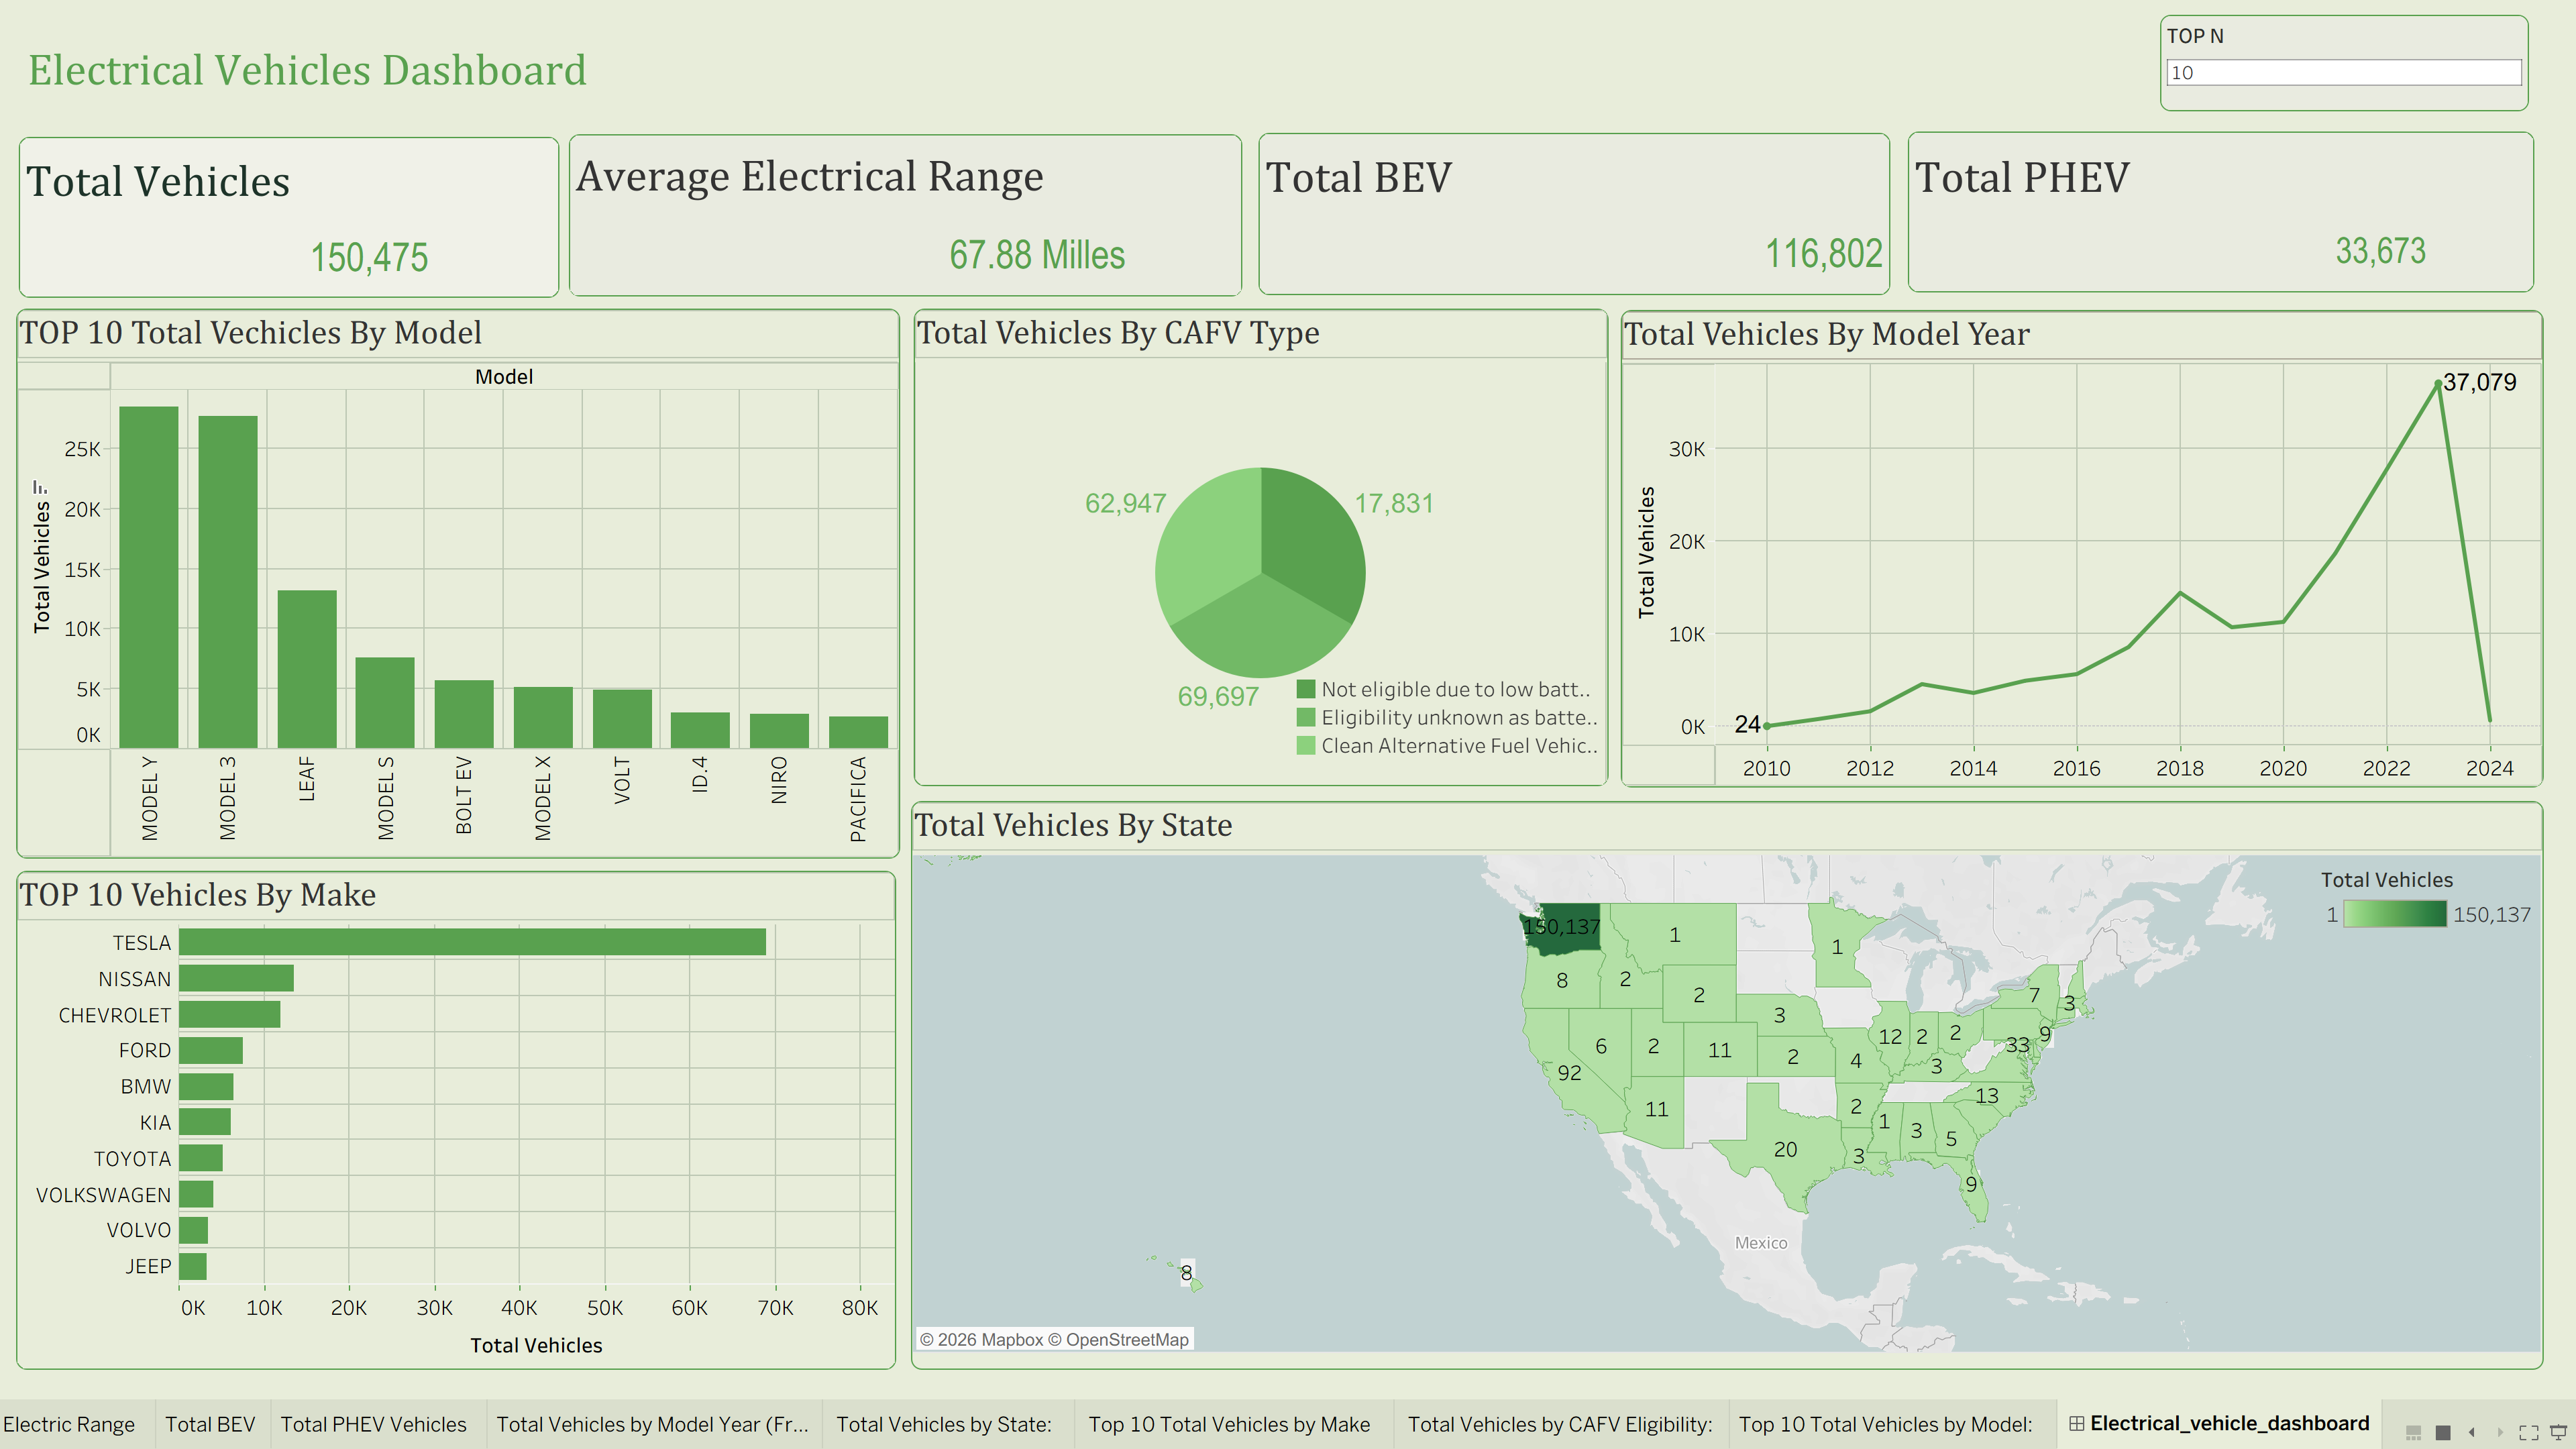

Layout of this report page (visuals, bound fields, positions):
{"tool":"tableau","page":{"name":"Electrical_vehicle_dashboard","canvas":[1000,1000],"units":"permille","ordinal":0},"visuals":[{"type":"parameter","param":"[Parameters].[Parameter 1]","box":[838.6,10.6,143.4,69.2]},{"type":"text","box":[8.9,14.1,282.4,69.2]},{"type":"worksheet","title":"Total PHEV Vehicles","mark":"Automatic","box":[740.5,93.9,243.3,115]},{"type":"worksheet","title":"Total BEV","mark":"Automatic","box":[488.5,95.1,245.2,116.2]},{"type":"worksheet","title":"Average Electric Range","mark":"Automatic","box":[221,96.2,261.3,116.2]},{"type":"worksheet","title":"Total Vehicles","mark":"Automatic","box":[7.5,97.4,209.8,115]},{"type":"worksheet","title":"Top 10 Total Vehicles by Model:","mark":"Automatic","rows":["Calculation_0101437153210368"],"cols":["model"],"box":[6.2,220.7,343,393.2]},{"type":"worksheet","title":" Total Vehicles by CAFV Eligibility:","mark":"Pie","box":[354.8,220.7,270,341.6]},{"type":"worksheet","title":"Total Vehicles by Model Year (From 2010 Onwards)","mark":"Automatic","rows":["Calculation_0101437153210368"],"cols":["model_year"],"box":[629.4,221.8,358.2,341.6]},{"type":"legend","title":" Total Vehicles by CAFV Eligibility:","param":"[federated.0wedt0n0fuxeai16bp9r30twjshj].[none:clean_alternative_fuel_vehicle_(c","box":[501.6,482.4,121.7,76.3]},{"type":"worksheet","title":" Total Vehicles by State:","mark":"Automatic","box":[353.8,572.8,633.8,406.1]},{"type":"legend","title":" Total Vehicles by State:","param":"[federated.0wedt0n0fuxeai16bp9r30twjshj].[usr:Calculation_0101437153210368:qk]","box":[901.3,618.5,84.4,103.3]},{"type":"worksheet","title":" Top 10 Total Vehicles by Make","mark":"Automatic","rows":["make"],"cols":["Calculation_0101437153210368"],"box":[6.2,622.1,341.8,356.8]}]}

Visuals, with their boxes on the dashboard's canvas, which has no fixed pixel size, in thousandths of its width and height (x1, y1, x2, y2). These are canvas units, not pixel positions in the 2576x1449 screenshot, which may show the page scaled, cropped or inside an application window:
parameter: (left=839, top=11, right=982, bottom=80)
text: (left=9, top=14, right=291, bottom=83)
"Total PHEV Vehicles" worksheet: (left=740, top=94, right=984, bottom=209)
"Total BEV" worksheet: (left=488, top=95, right=734, bottom=211)
"Average Electric Range" worksheet: (left=221, top=96, right=482, bottom=212)
"Total Vehicles" worksheet: (left=8, top=97, right=217, bottom=212)
"Top 10 Total Vehicles by Model:" worksheet: (left=6, top=221, right=349, bottom=614)
" Total Vehicles by CAFV Eligibility:" worksheet (Pie marks): (left=355, top=221, right=625, bottom=562)
"Total Vehicles by Model Year (From 2010 Onwards)" worksheet: (left=629, top=222, right=988, bottom=563)
" Total Vehicles by CAFV Eligibility:" legend: (left=502, top=482, right=623, bottom=559)
" Total Vehicles by State:" worksheet: (left=354, top=573, right=988, bottom=979)
" Total Vehicles by State:" legend: (left=901, top=618, right=986, bottom=722)
" Top 10 Total Vehicles by Make" worksheet: (left=6, top=622, right=348, bottom=979)
